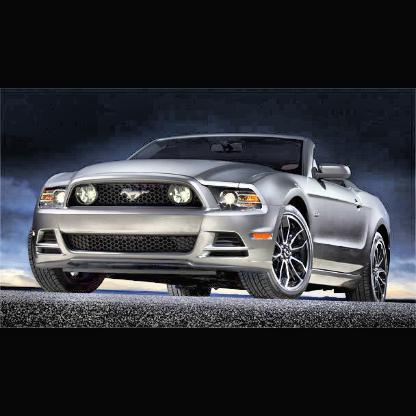Ford Mustang Convertible 2007: (29, 136, 394, 305)
